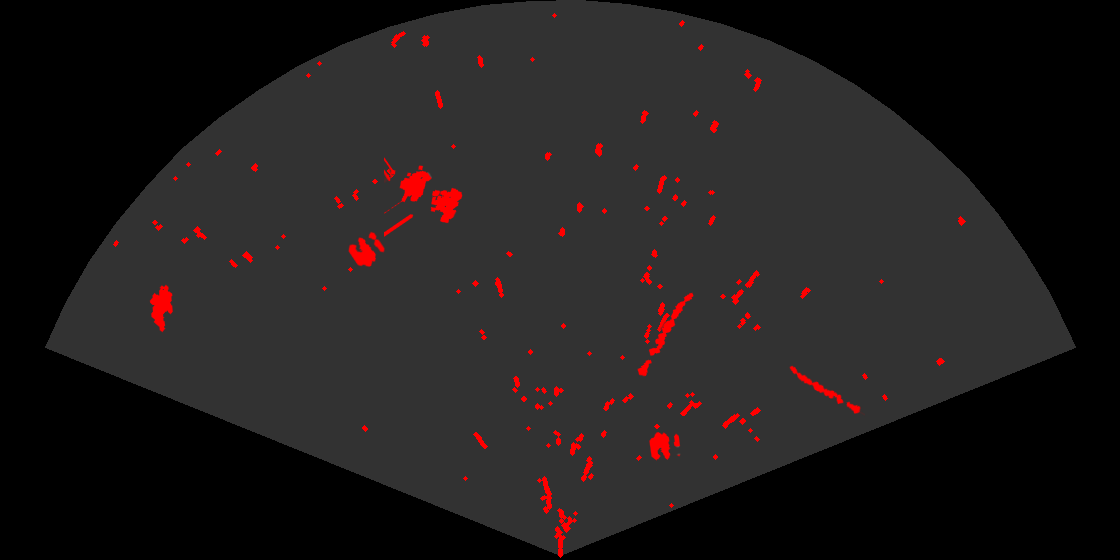AUV: (148, 283, 174, 334)
ball: (347, 230, 386, 269), (648, 431, 682, 462)
cage: (384, 156, 464, 238)
chain: (636, 291, 695, 378), (788, 364, 865, 417)
